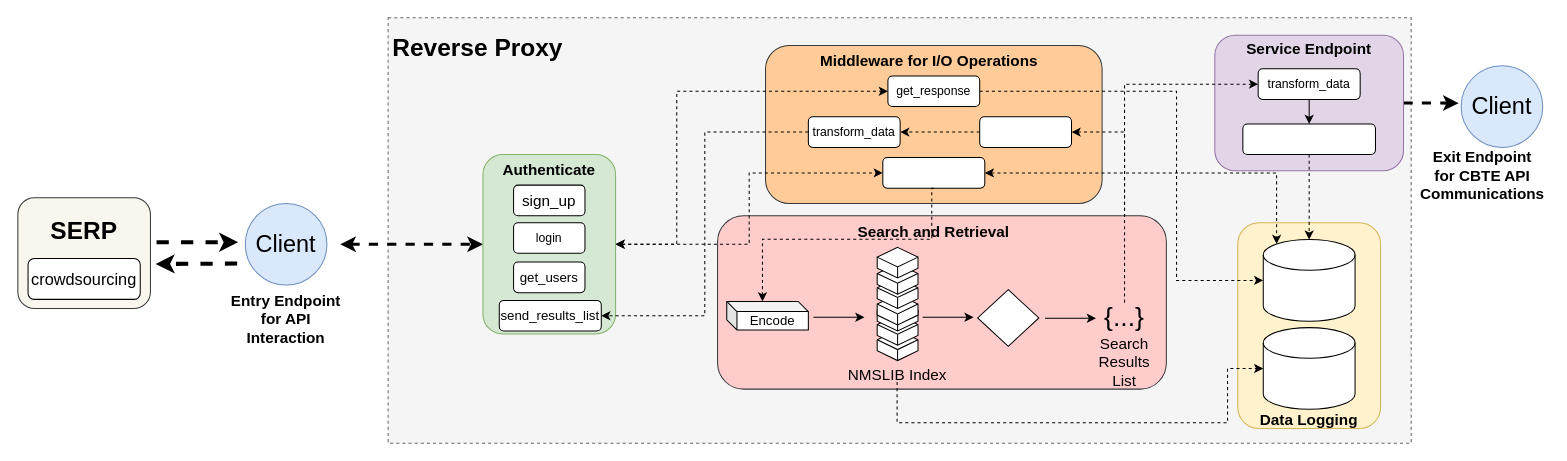
Image size: 1567x461. Some labels were removed from this diagram. Each missing label, with the box of its shape:
get_results_list: (979, 116, 1072, 147)
get_user_query: (882, 157, 985, 188)
Item Database: (1262, 327, 1355, 409)
Re-rank: (977, 289, 1039, 346)
send_item_selection: (1242, 123, 1375, 155)
Users Database: (1262, 239, 1355, 321)
